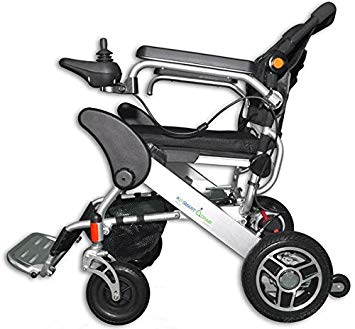wheelchair: (11, 1, 341, 324)
